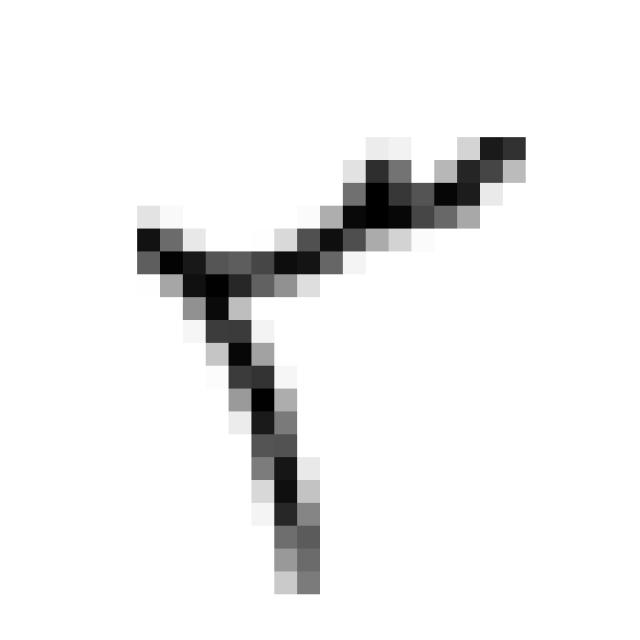3 -three-: (110, 114, 548, 613)
